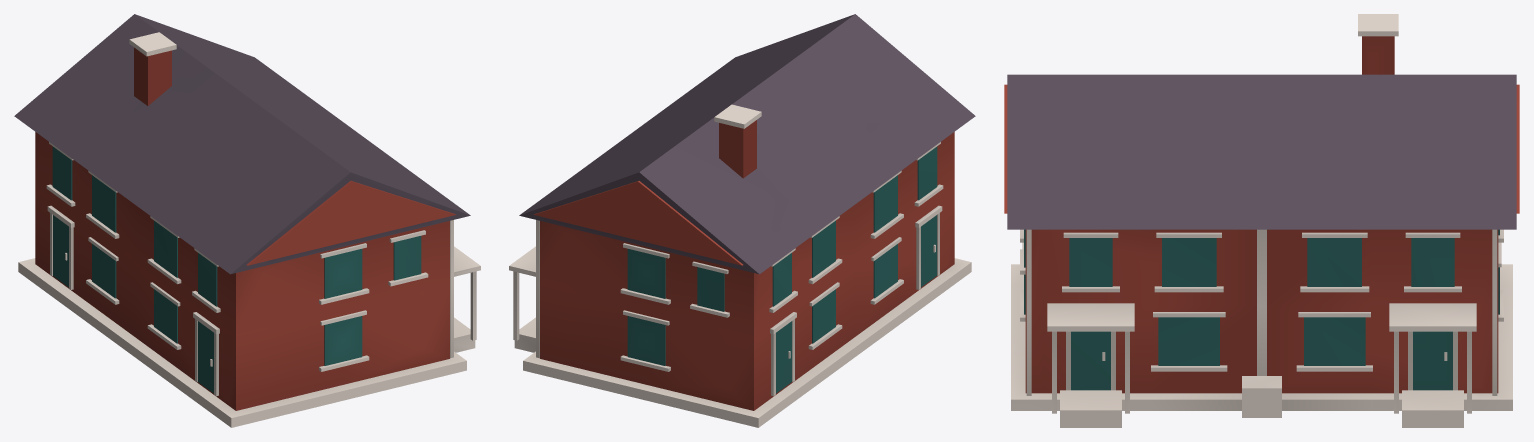
3 renders of one model, left to right at view 1: azimuth 30°, elevation 25°; view 2: azimuth 150°, elevation 25°; view 3: azimuth 270°, elevation 25°, orthographic. The views are drawn at different scales.
Visible parts, largest first — view 1: body_pal_asphalt, body_pal_brick, body_pal_picketWhite, body_pal_backpackTeal; view 2: body_pal_asphalt, body_pal_brick, body_pal_picketWhite, body_pal_backpackTeal; view 3: body_pal_asphalt, body_pal_brick, body_pal_picketWhite, body_pal_backpackTeal.
Boxes of the visible parts, bbox=[...] form: body_pal_asphalt: bbox=[14, 14, 470, 274]; body_pal_brick: bbox=[35, 47, 455, 410]; body_pal_picketWhite: bbox=[18, 32, 480, 427]; body_pal_backpackTeal: bbox=[52, 146, 421, 393]; body_pal_asphalt: bbox=[519, 14, 975, 274]; body_pal_brick: bbox=[534, 120, 954, 410]; body_pal_picketWhite: bbox=[509, 104, 971, 427]; body_pal_backpackTeal: bbox=[627, 146, 937, 393]; body_pal_asphalt: bbox=[1007, 74, 1516, 229]; body_pal_brick: bbox=[1004, 36, 1519, 393]; body_pal_picketWhite: bbox=[1011, 14, 1512, 427]; body_pal_backpackTeal: bbox=[1024, 229, 1499, 390].
Bounding box in the file's own units: 10 × 9.03 × 14.16.
